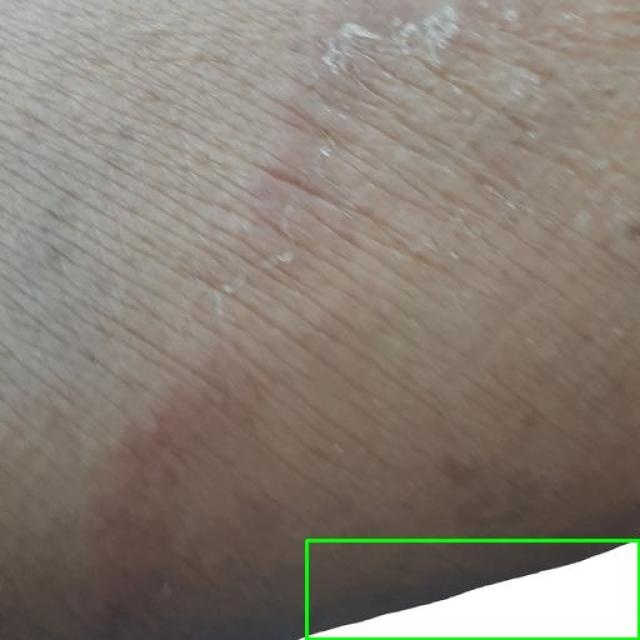Tinea Corporis: (306, 540, 639, 639)
